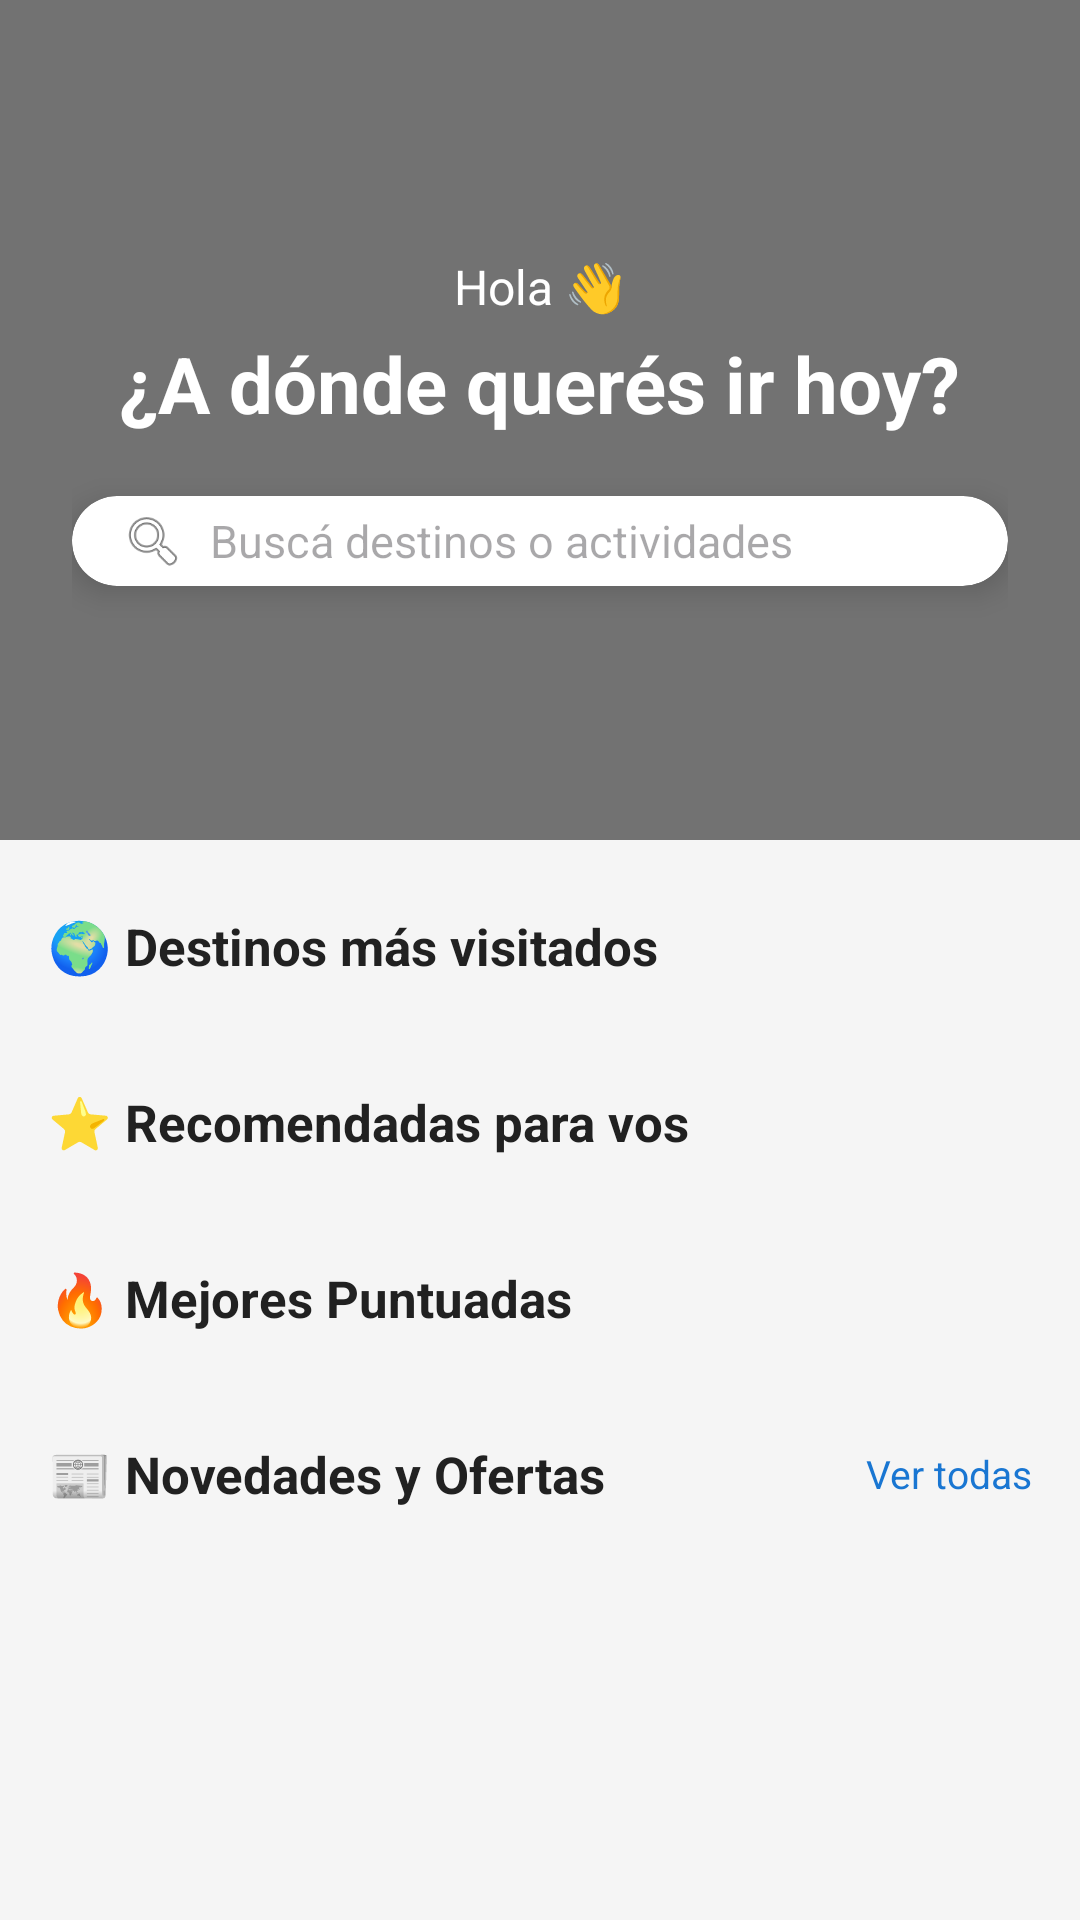

Icon bounding boxes for this 1080x1920 phone screenshot, format (x1, y1, x2, y2):
Buscar: (129, 517, 177, 566)
